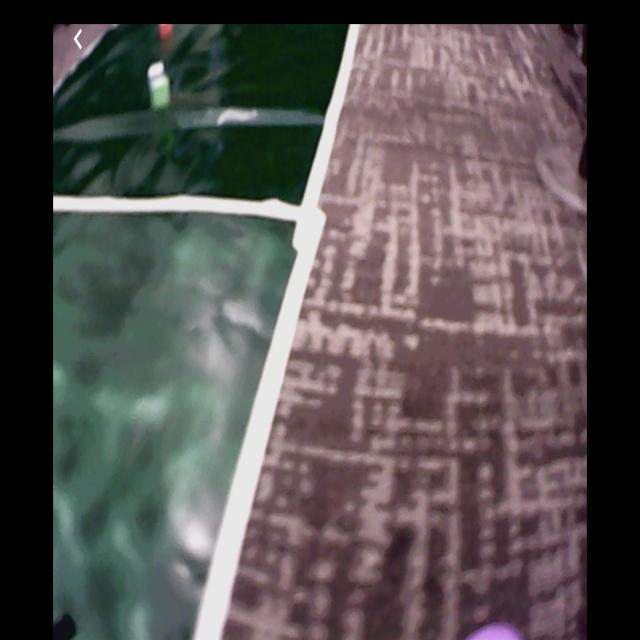ball: (459, 622, 534, 640)
